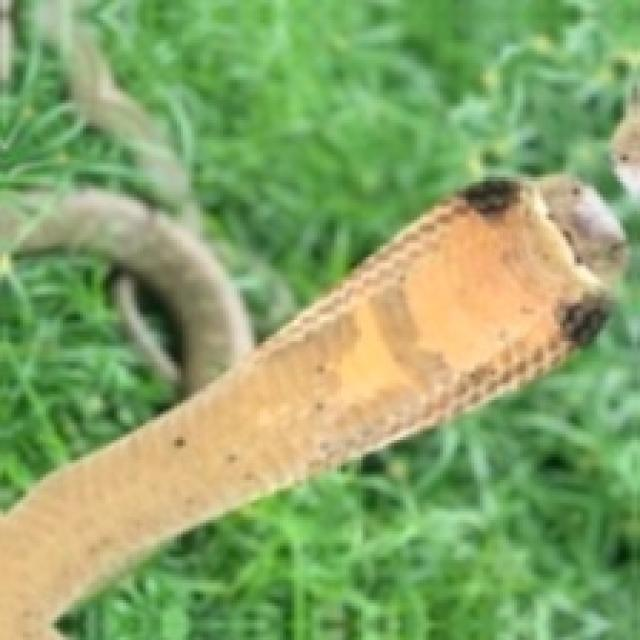king cobra: (60, 0, 637, 637), (0, 254, 174, 506), (0, 0, 171, 211)
